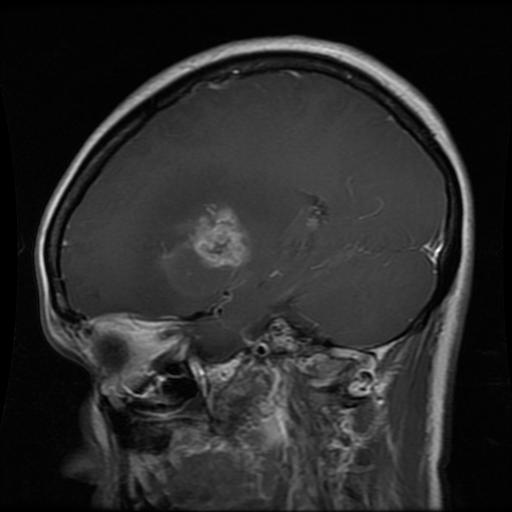Gliomia_tumour: (162, 202, 255, 266)
